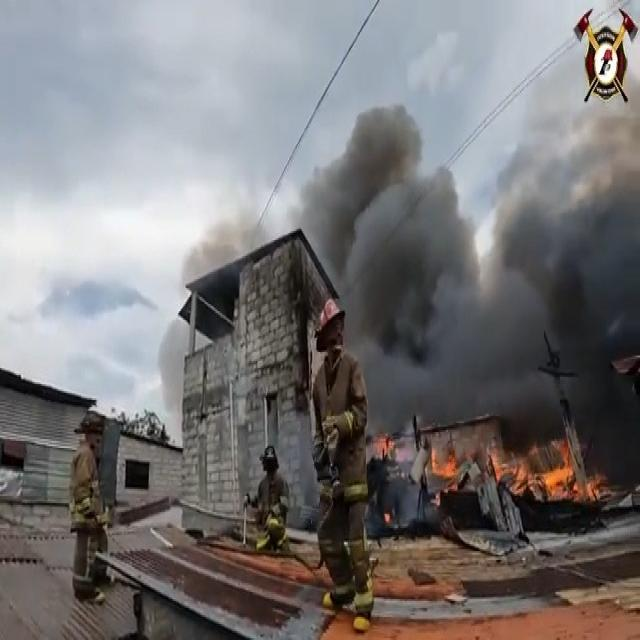Fire: (488, 440, 612, 505), (424, 442, 460, 503), (373, 431, 399, 463), (382, 511, 395, 525)
Smoke: (306, 96, 640, 491)
